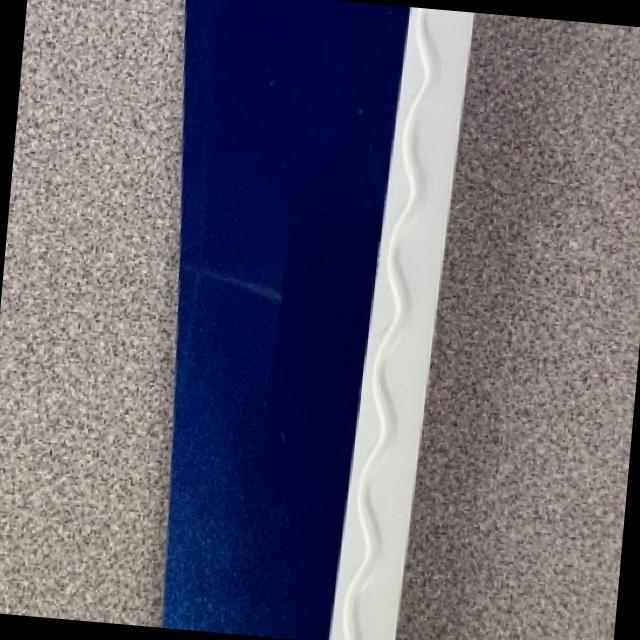healthy: (163, 0, 469, 640)
